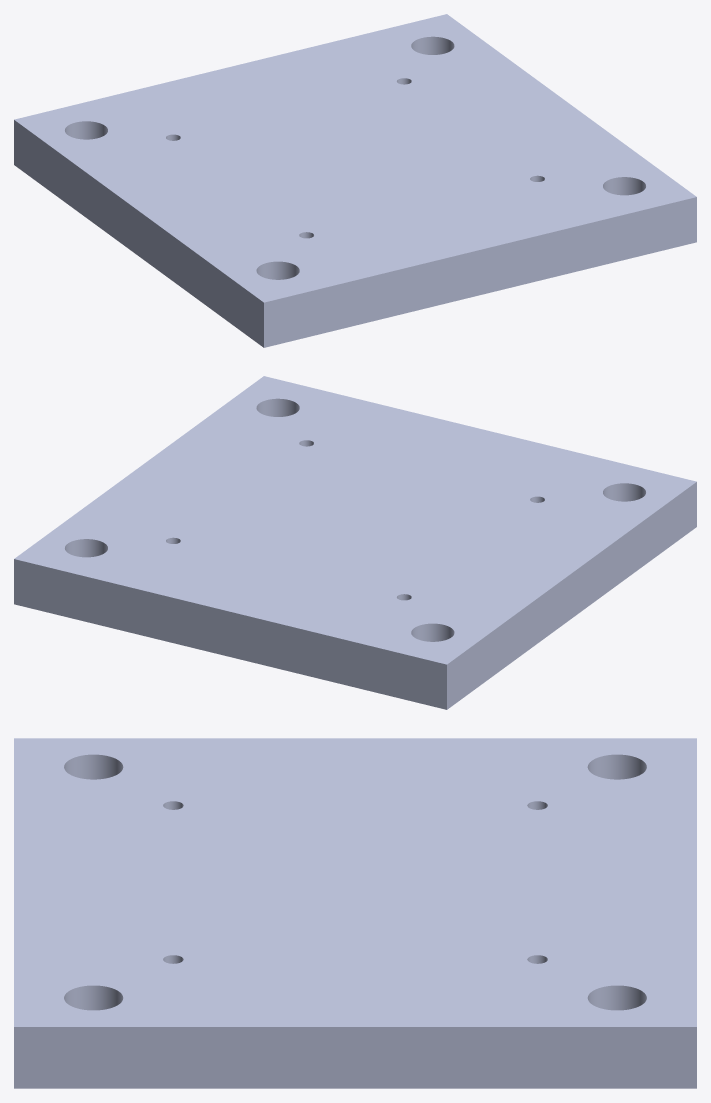
Rendered from multi_mount_plate.dae.
3 views of the same model, one above another, from view 1: azimuth 30°, elevation 25°; view 2: azimuth 150°, elevation 25°; view 3: azimuth 270°, elevation 25° (orthographic). The views are drawn at different scales.
Visible parts, largest first — view 1: ID2; view 2: ID2; view 3: ID2.
Boxes of the visible parts, left/top/right/bottom form: ID2: left=14, top=14, right=696, bottom=347; ID2: left=14, top=376, right=696, bottom=709; ID2: left=14, top=738, right=696, bottom=1088.
Bounding box in the file's own units: 0.15 × 0.15 × 0.015.
